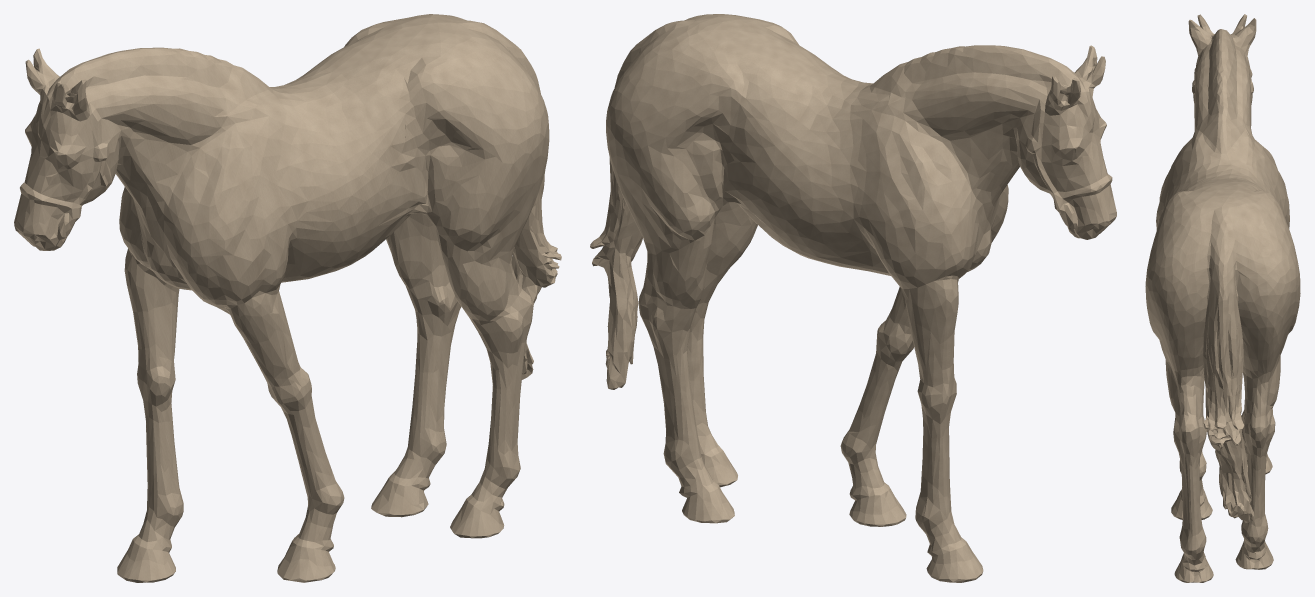
The model's file is horse_candidate_03_textured.glb.
3 views of the same model, side by side, from view 1: azimuth 30°, elevation 25°; view 2: azimuth 150°, elevation 25°; view 3: azimuth 270°, elevation 25° (orthographic). The views are drawn at different scales.
Parts seen in each view (by area): view 1: geometry_0; view 2: geometry_0; view 3: geometry_0.
Part boxes in pixels (bbox=[...]): geometry_0: bbox=[14, 14, 561, 582]; geometry_0: bbox=[590, 14, 1116, 582]; geometry_0: bbox=[1145, 14, 1300, 582].
Size of the model in its own units: 1.98 by 1.93 by 0.6565.
Materials: 1 (1 with a texture image).
